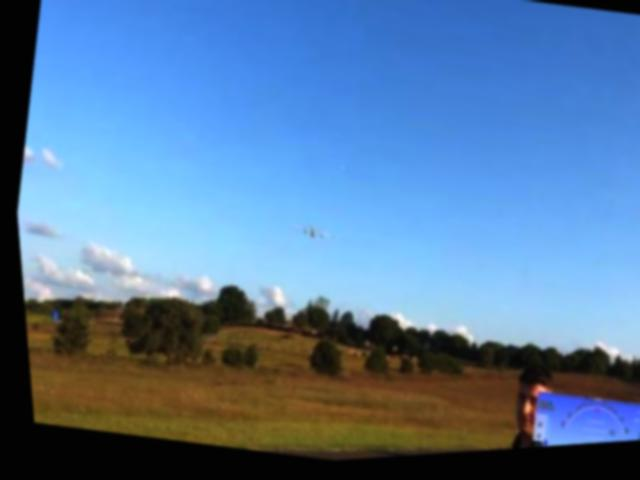uav: (284, 216, 339, 249)
